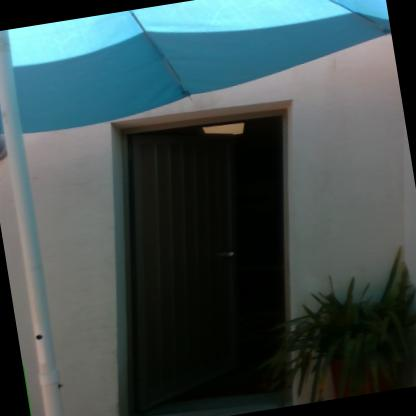semi: (89, 77, 342, 415)
